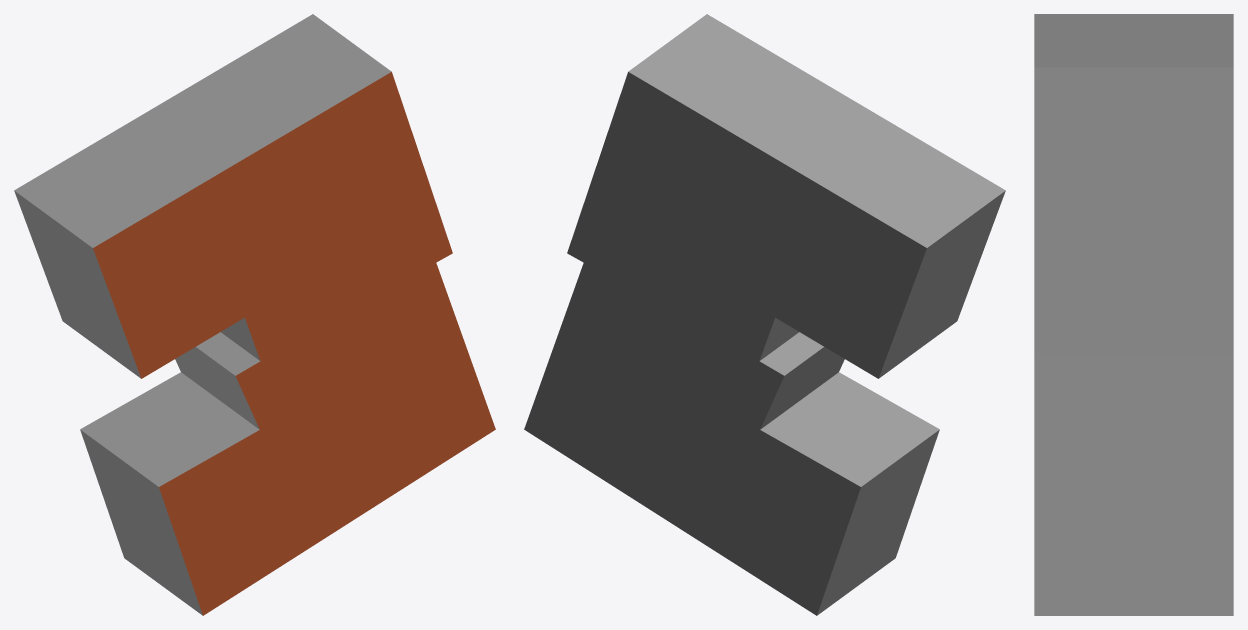
Rendered from construction_0821_assumed_A_Casa_h6m.obj.
3 renders of one model, left to right at view 1: azimuth 30°, elevation 25°; view 2: azimuth 150°, elevation 25°; view 3: azimuth 270°, elevation 25°, orthographic. The views are drawn at different scales.
Visible parts, largest first — view 1: construction_0821_assumed_A_Casa; view 2: construction_0821_assumed_A_Casa; view 3: construction_0821_assumed_A_Casa.
Boxes of the visible parts, box(x1,y1,x2,y2) form: construction_0821_assumed_A_Casa: box(14, 14, 495, 615); construction_0821_assumed_A_Casa: box(524, 14, 1005, 615); construction_0821_assumed_A_Casa: box(1034, 14, 1233, 615).
Bounding box in the file's own units: 17.7 × 20.91 × 6.
